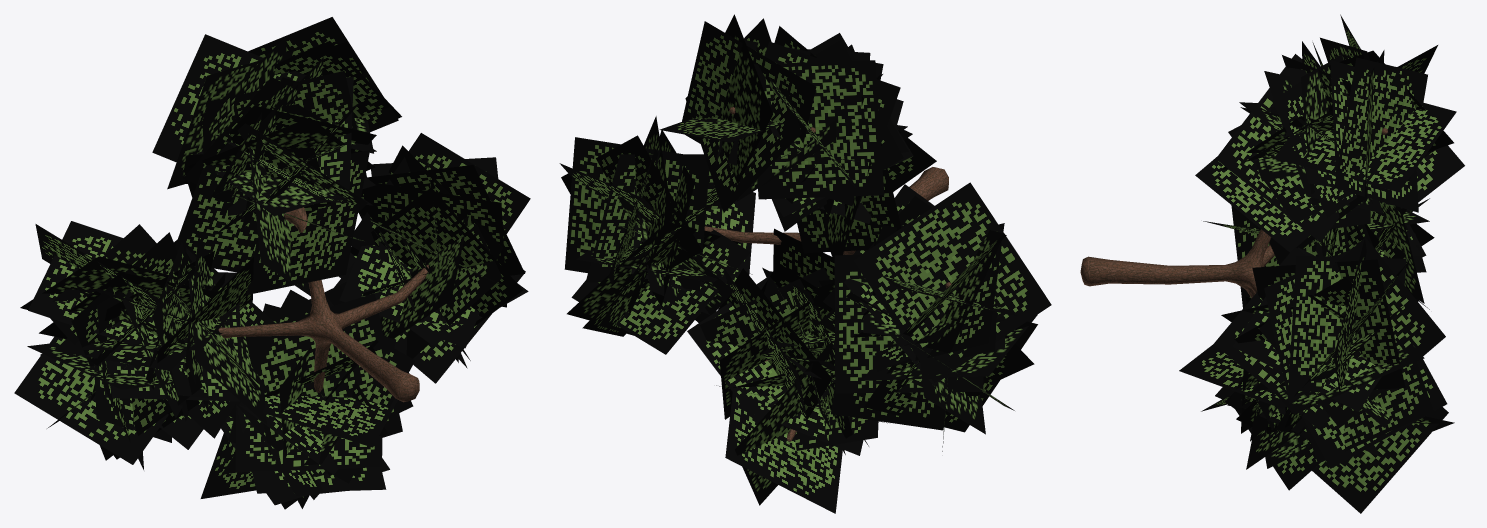
File: Tree5.fbx
3 views of the same model, side by side, from view 1: azimuth 30°, elevation 25°; view 2: azimuth 150°, elevation 25°; view 3: azimuth 270°, elevation 25° (orthographic). The views are drawn at different scales.
Parts seen in each view (by area): view 1: Tree5; view 2: Tree5; view 3: Tree5.
Part boxes in pixels (left/top/right/bottom): Tree5: left=14, top=17, right=530, bottom=509; Tree5: left=559, top=14, right=1051, bottom=513; Tree5: left=1080, top=14, right=1464, bottom=513.
Size of the model in its own units: 3057 by 2908 by 2200.
